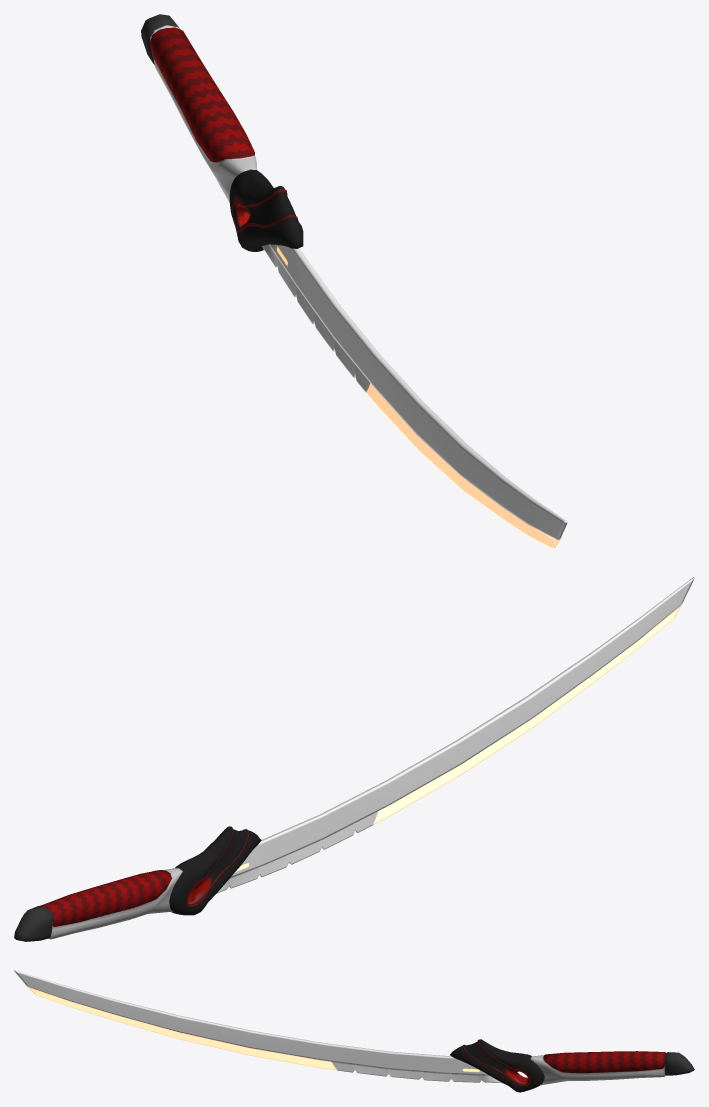
File: KatanaSwordSketch.fbx
The picture shows the model from 3 angles, top to bottom: view 1: azimuth 30°, elevation 25°; view 2: azimuth 150°, elevation 25°; view 3: azimuth 270°, elevation 25°; orthographic projection. The views are drawn at different scales.
Parts seen in each view (by area): view 1: Katanaketchfab; view 2: Katanaketchfab; view 3: Katanaketchfab.
Boxes of the visible parts, x1,y1,x2,y2 form: Katanaketchfab: (141, 14, 567, 548); Katanaketchfab: (14, 577, 694, 941); Katanaketchfab: (14, 970, 694, 1092).
Bounding box in the file's own units: 502 × 116 × 59.47.
